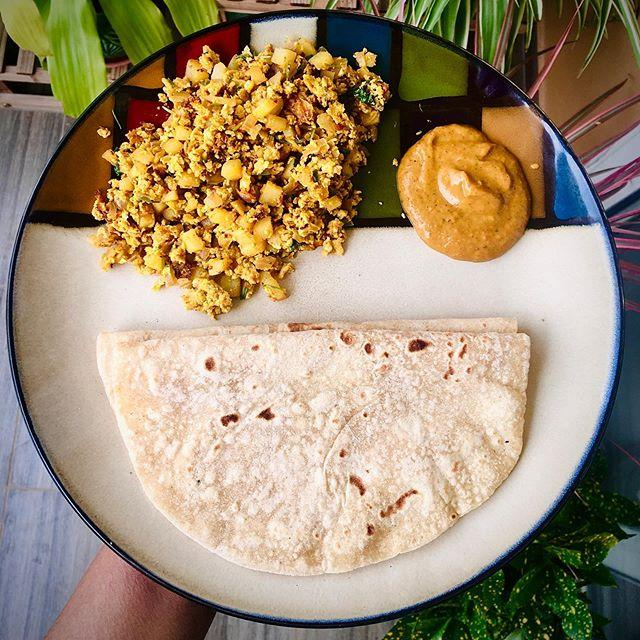Roti: (91, 320, 542, 560)
